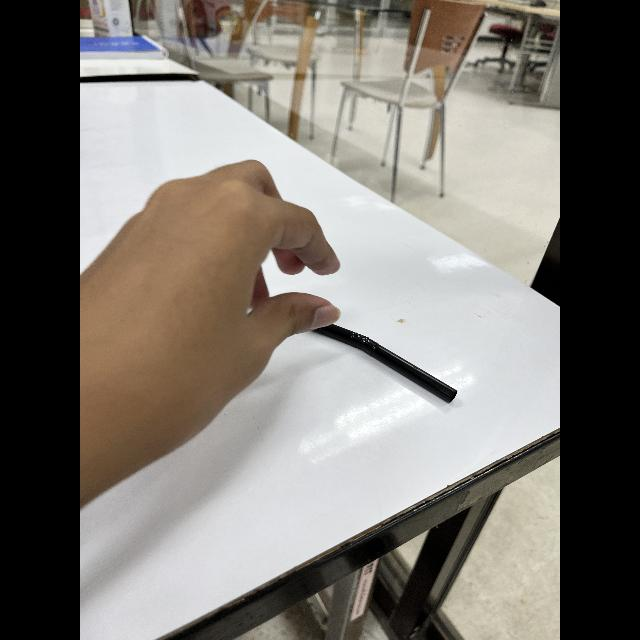straw: (310, 322, 466, 408)
